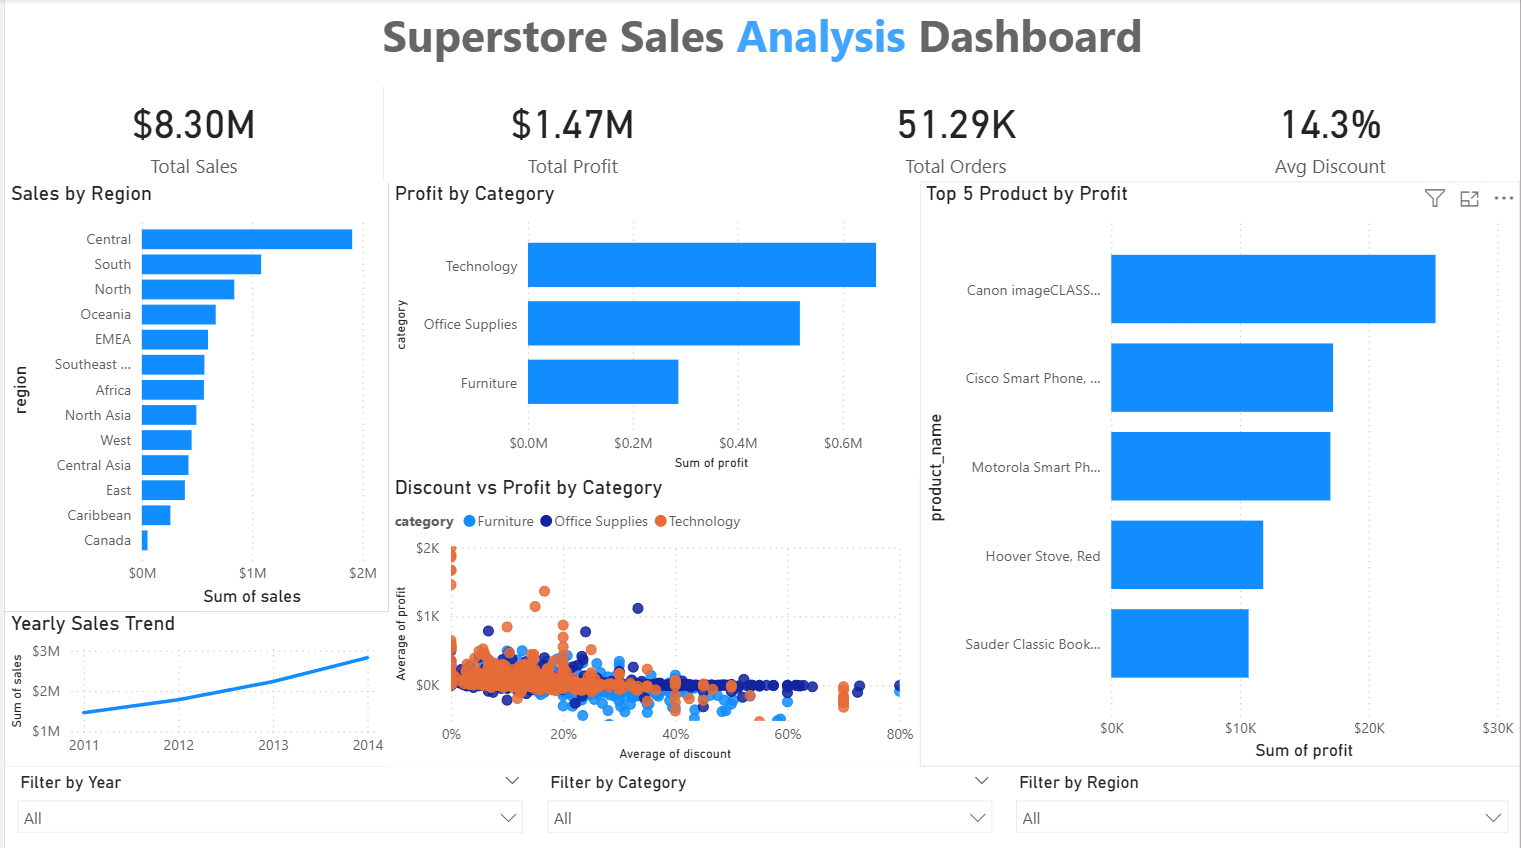

What the dashboard file says about the page in this screenshot:
{"tool":"powerbi","page":{"name":"Complete sales analysis","canvas":[1280,720],"ordinal":0},"visuals":[{"type":"card","fields":{"Values":["Sum(SuperStore_Cleaned.sales)"]},"box":[0,73.3,319.8,82.6],"z":0},{"type":"card","fields":{"Values":["Sum(SuperStore_Cleaned.profit)"]},"box":[319.8,73.3,319.8,82.6],"z":1000},{"type":"card","fields":{"Values":["CountNonNull(SuperStore_Cleaned.order_id)"]},"box":[638.4,73.3,331.4,82.6],"z":2000},{"type":"card","fields":{"Values":["Avg(SuperStore_Cleaned.discount)"]},"box":[960.5,73.3,319.8,82.6],"z":3000},{"type":"clusteredBarChart","title":"Sales by Region","fields":{"Category":["SuperStore_Cleaned.region"],"Y":["Sum(SuperStore_Cleaned.sales)"]},"box":[0,154.2,324.2,363.3],"z":4000},{"type":"clusteredBarChart","title":"Profit by Category","fields":{"Category":["SuperStore_Cleaned.category"],"Y":["Sum(SuperStore_Cleaned.profit)"]},"box":[324.2,154.2,448.8,248.2],"z":5000},{"type":"lineChart","title":"Yearly Sales Trend","fields":{"Category":["SuperStore_Cleaned.order_date.Variation.Date Hierarchy.Year"],"Y":["Sum(SuperStore_Cleaned.sales)"]},"box":[0,517.4,324.4,131.4],"z":6000},{"type":"scatterChart","title":" Discount vs Profit by Category","fields":{"X":["Avg(SuperStore_Cleaned.discount)"],"Y":["Avg(SuperStore_Cleaned.profit)"],"Series":["SuperStore_Cleaned.category"],"Category":["SuperStore_Cleaned.product_name"]},"box":[324.4,402.3,448.8,246.5],"z":7000},{"type":"slicer","fields":{"Values":["SuperStore_Cleaned.year"]},"box":[0,648.8,447.7,72.1],"z":8000},{"type":"slicer","fields":{"Values":["SuperStore_Cleaned.category"]},"box":[447.7,648.8,396.5,72.1],"z":9000},{"type":"slicer","fields":{"Values":["SuperStore_Cleaned.region"]},"box":[844.2,648.8,436,70.9],"z":10000},{"type":"textbox","box":[0,0,1280.2,73.3],"z":11000},{"type":"clusteredBarChart","title":"Top 5 Product by Profit","fields":{"Category":["SuperStore_Cleaned.product_name"],"Y":["Sum(SuperStore_Cleaned.profit)"]},"box":[773.3,154.7,507,494.2],"z":12000}]}

Visuals, with their boxes in screenshot pixels (x1, y1, x2, y2), scaled from the page's 1280x720 canvas onto the 1521x848 screenshot:
card - Sum(SuperStore_Cleaned.sales): left=0, top=86, right=380, bottom=184
card - Sum(SuperStore_Cleaned.profit): left=380, top=86, right=760, bottom=184
card - CountNonNull(SuperStore_Cleaned.order_id): left=759, top=86, right=1152, bottom=184
card - Avg(SuperStore_Cleaned.discount): left=1141, top=86, right=1520, bottom=184
"Sales by Region" clusteredBarChart: left=0, top=182, right=385, bottom=610
"Profit by Category" clusteredBarChart: left=385, top=182, right=919, bottom=474
"Yearly Sales Trend" lineChart: left=0, top=609, right=385, bottom=764
" Discount vs Profit by Category" scatterChart: left=385, top=474, right=919, bottom=764
slicer - SuperStore_Cleaned.year: left=0, top=764, right=532, bottom=847
slicer - SuperStore_Cleaned.category: left=532, top=764, right=1003, bottom=847
slicer - SuperStore_Cleaned.region: left=1003, top=764, right=1520, bottom=847
textbox: left=0, top=0, right=1520, bottom=86
"Top 5 Product by Profit" clusteredBarChart: left=919, top=182, right=1520, bottom=764
